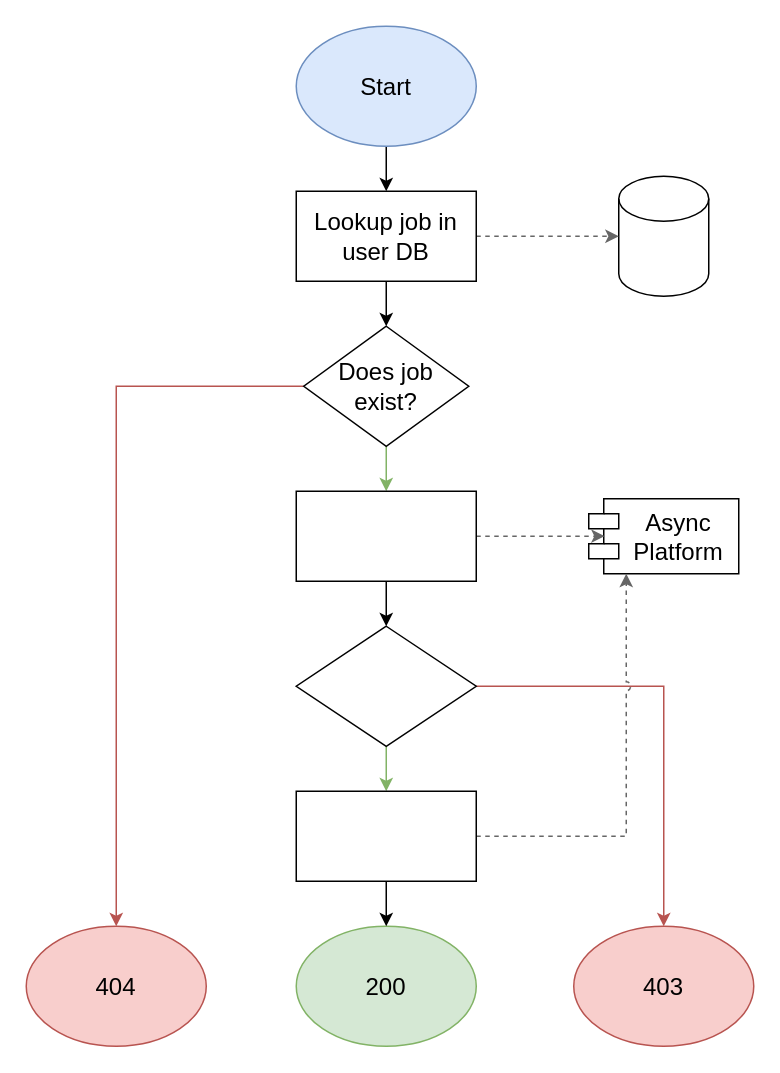
The diagram is 780 pixels wide and 1073 high, and some of its shapes have lost their labels. Each missing label, with the centre of its shape:
"Is job status 'complete'?" goes at [385,685].
"List job files in platform" goes at [385,835].
"Lookup job in platform" goes at [385,535].
"User DB" goes at [663,235].
